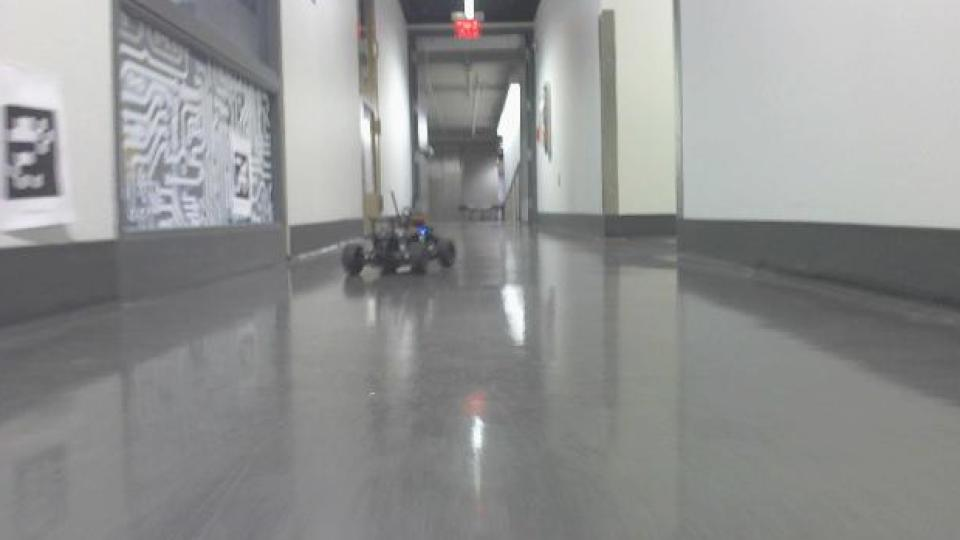car: (336, 189, 458, 281)
